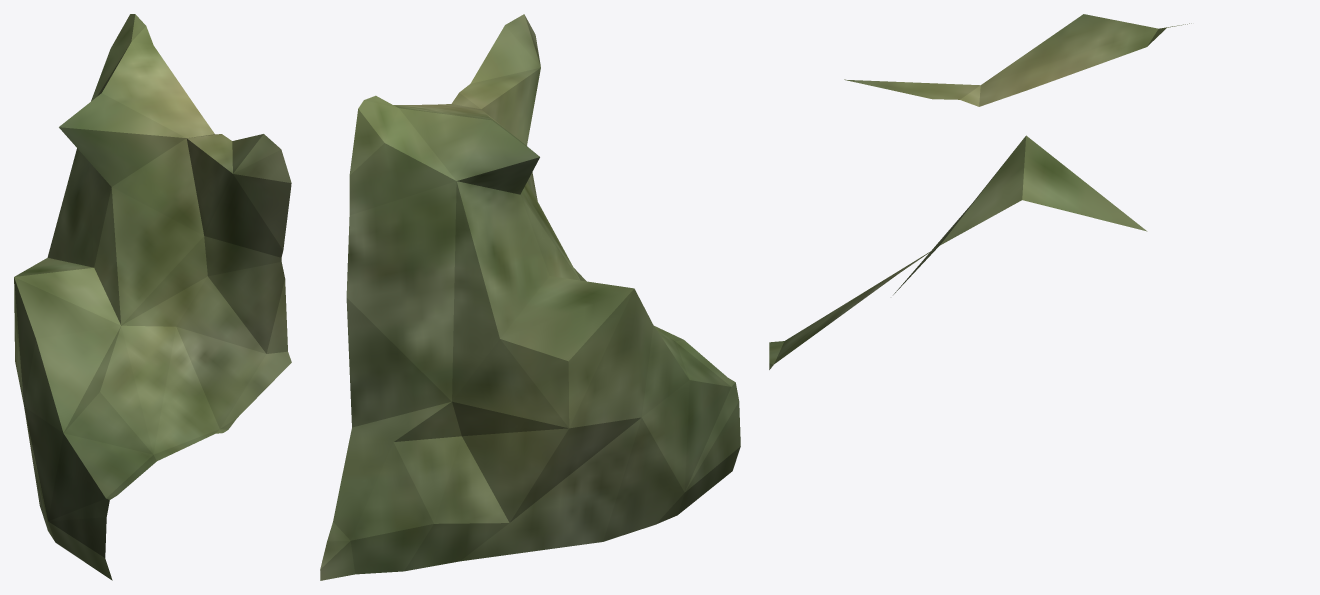
The picture shows the model from 3 angles, left to right: view 1: azimuth 30°, elevation 25°; view 2: azimuth 150°, elevation 25°; view 3: azimuth 270°, elevation 25°; orthographic projection. The views are drawn at different scales.
Size of the model in its own units: 0.3809 by 0.7842 by 0.683.
Materials: 1 (1 with a texture image).
